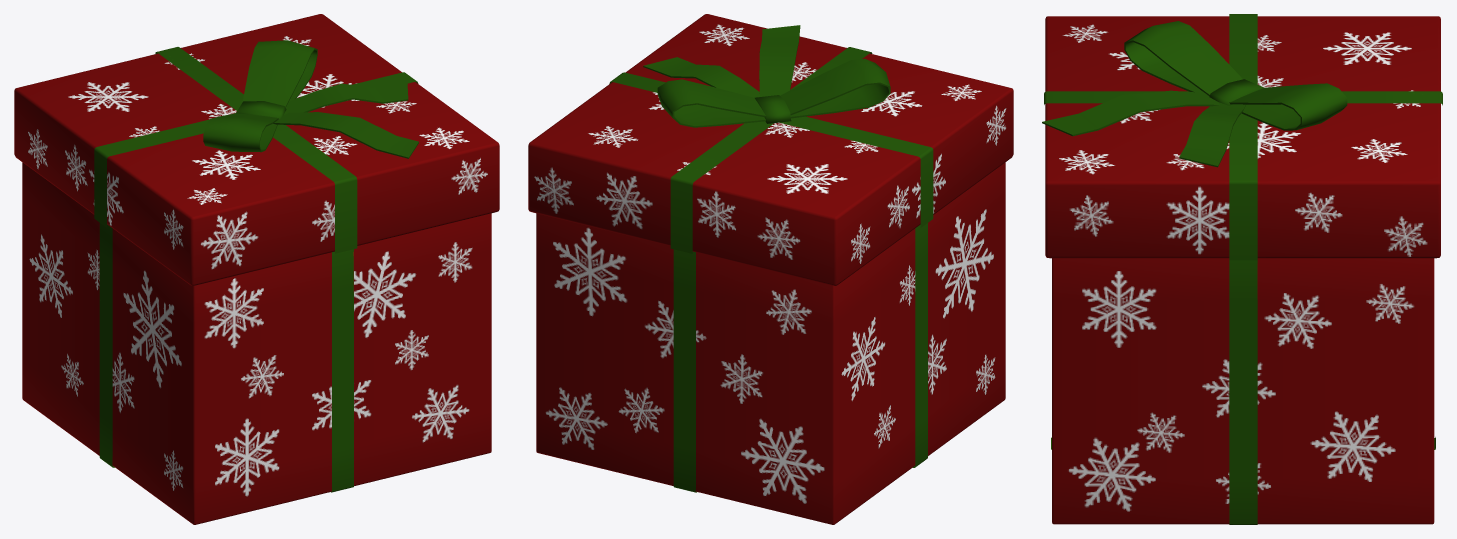
The model's file is GiftBox.fbx.
3 views of the same model, side by side, from view 1: azimuth 30°, elevation 25°; view 2: azimuth 150°, elevation 25°; view 3: azimuth 270°, elevation 25° (orthographic). The views are drawn at different scales.
Visible parts, largest first — view 1: Base_box, Box_cover, bow; view 2: Base_box, Box_cover, bow; view 3: Base_box, Box_cover, bow.
Part boxes in pixels (left/top/right/bottom): Base_box: left=22, top=162, right=491, bottom=524; Box_cover: left=14, top=14, right=499, bottom=285; bow: left=203, top=40, right=418, bottom=158; Base_box: left=536, top=162, right=1005, bottom=524; Box_cover: left=528, top=14, right=1013, bottom=285; bow: left=643, top=25, right=890, bottom=127; Base_box: left=1051, top=258, right=1435, bottom=524; Box_cover: left=1044, top=14, right=1442, bottom=260; bow: left=1042, top=21, right=1347, bottom=167.
Bounding box in the file's own units: 7844 × 8341 × 7881.
Materials: 1 (1 with a texture image).
